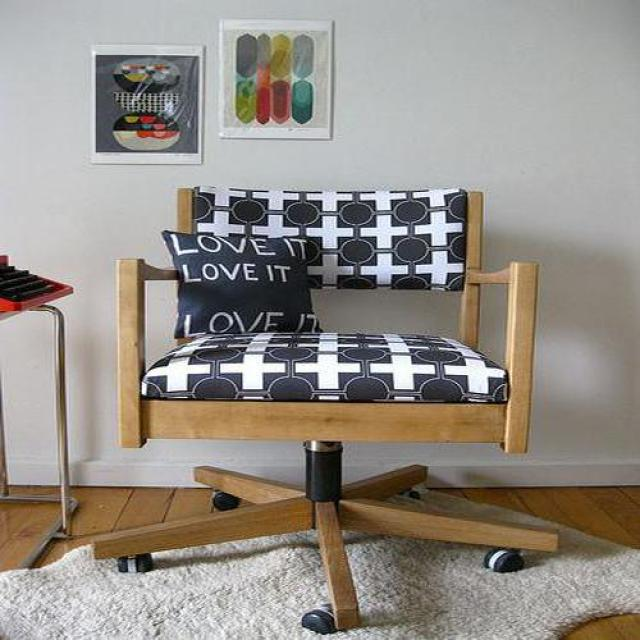swivelchair: (93, 187, 559, 635)
